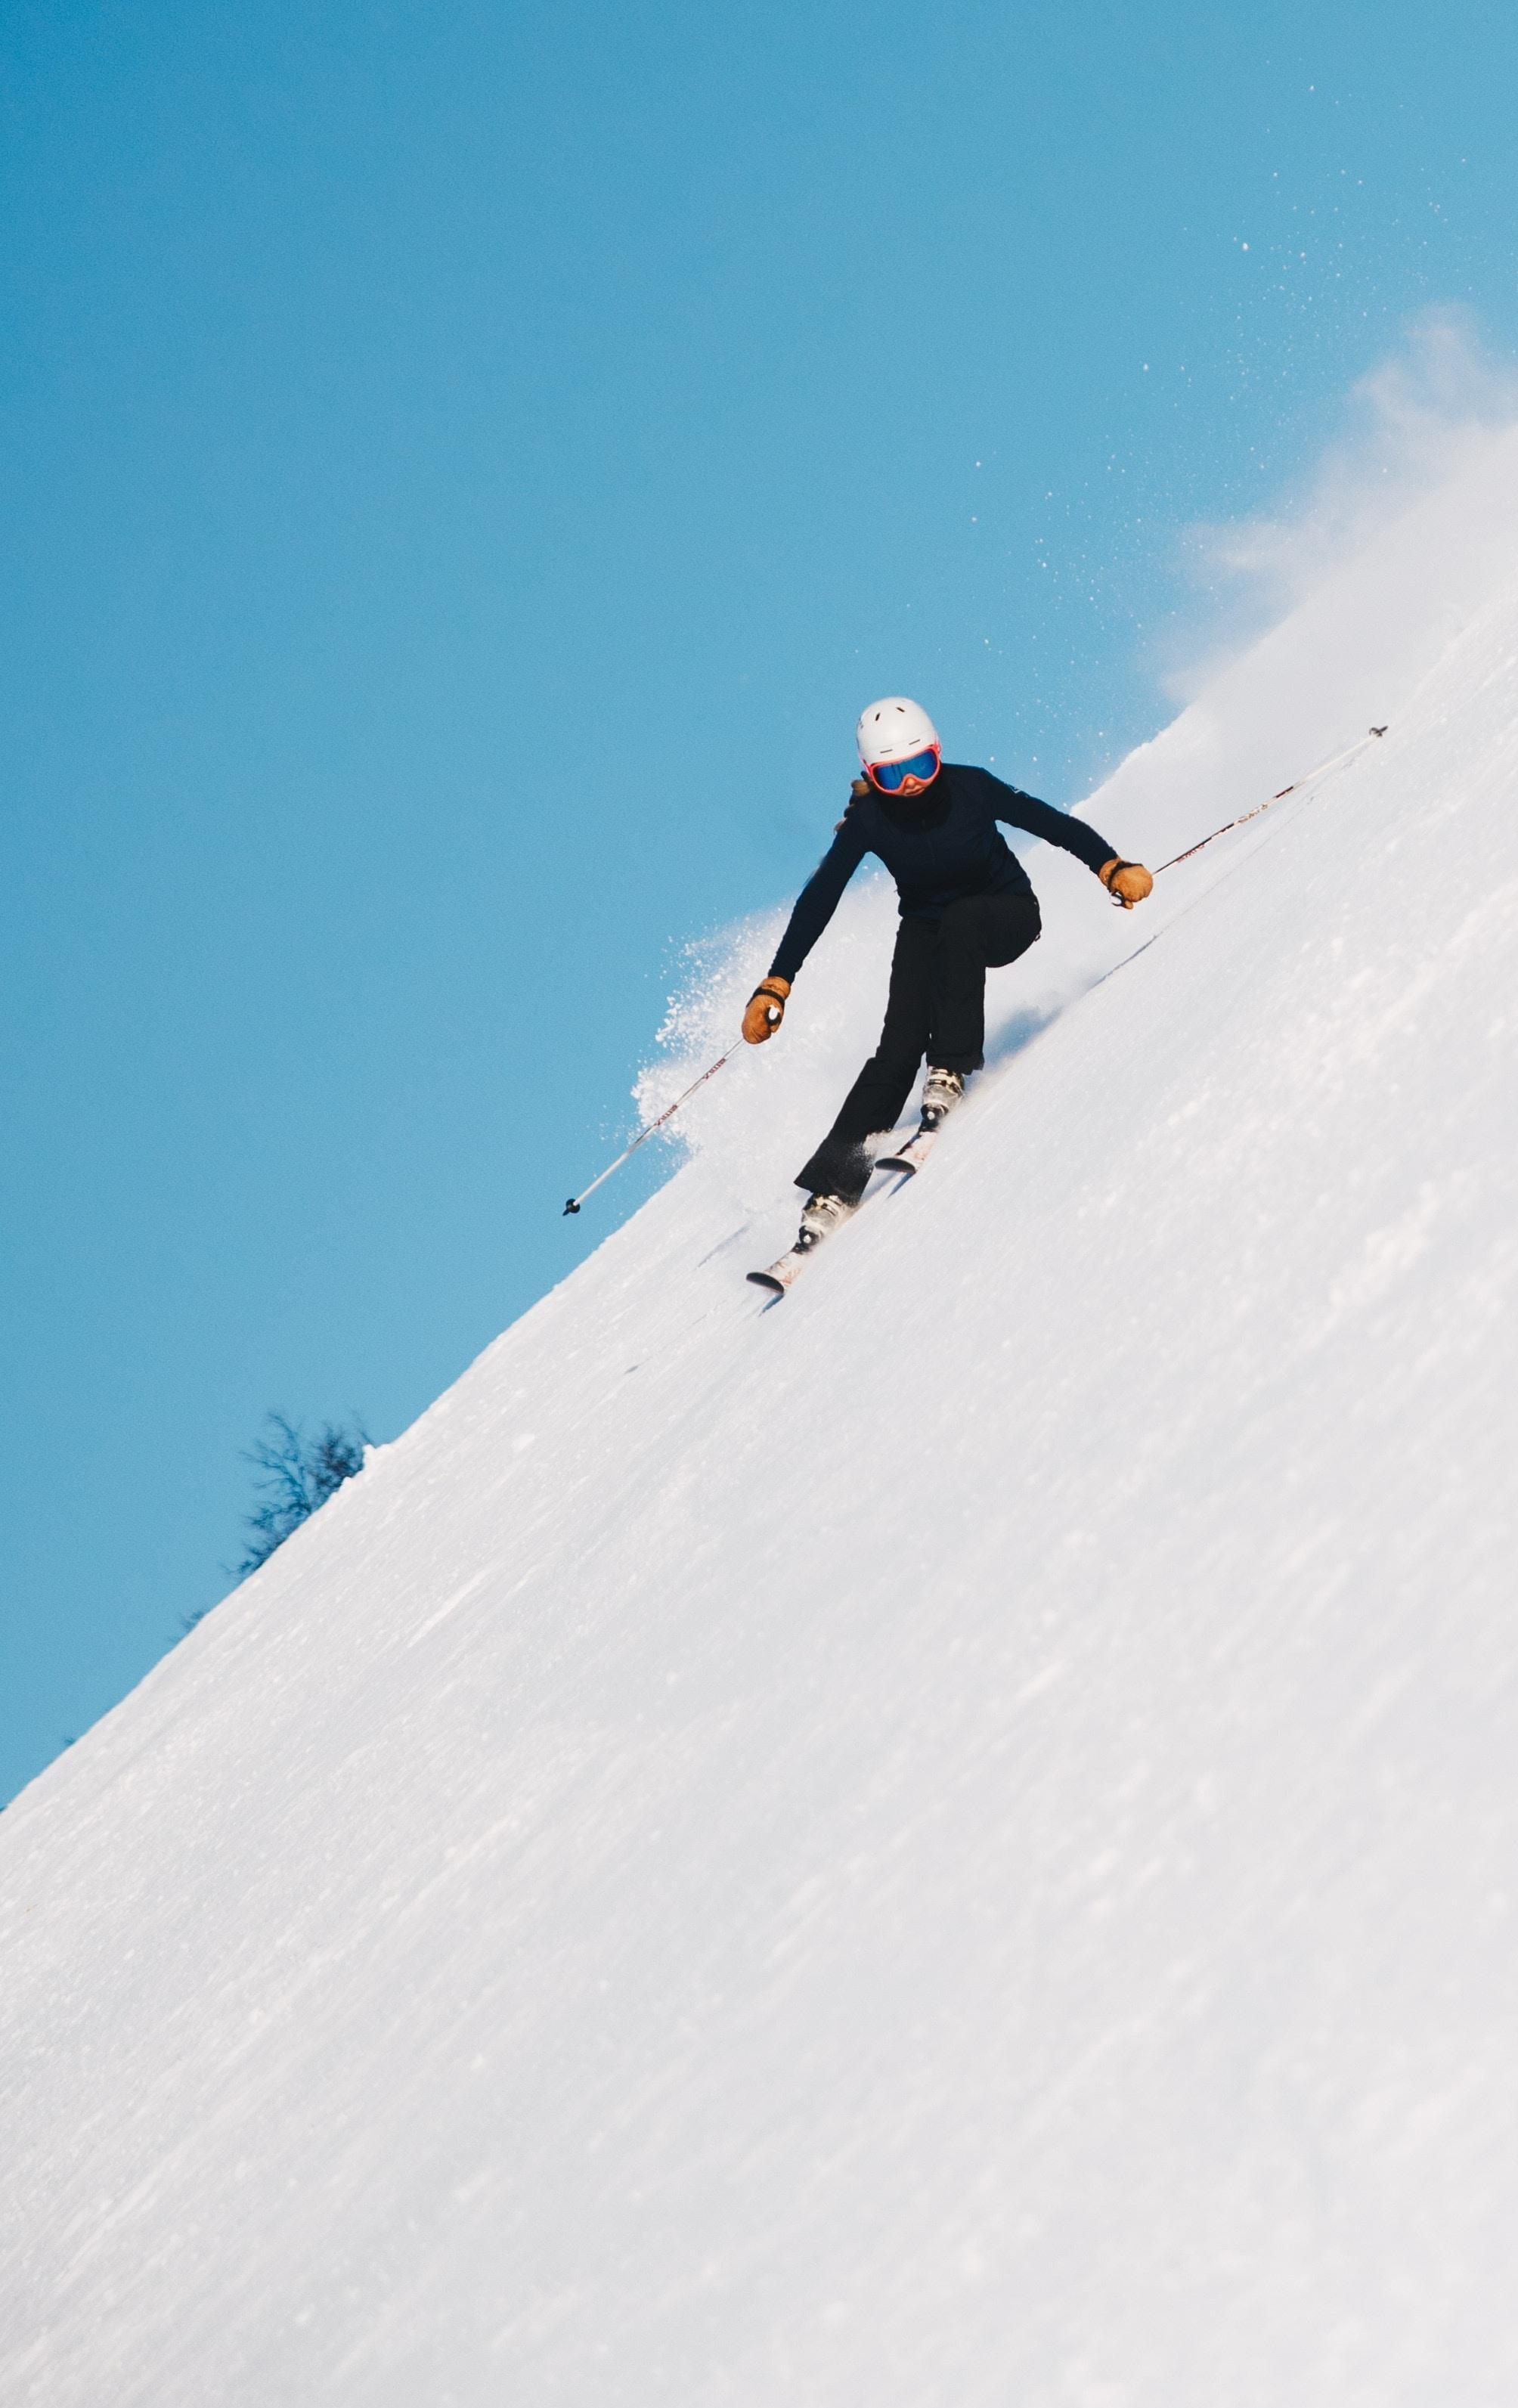Skis: (638, 1098, 1007, 1362)
